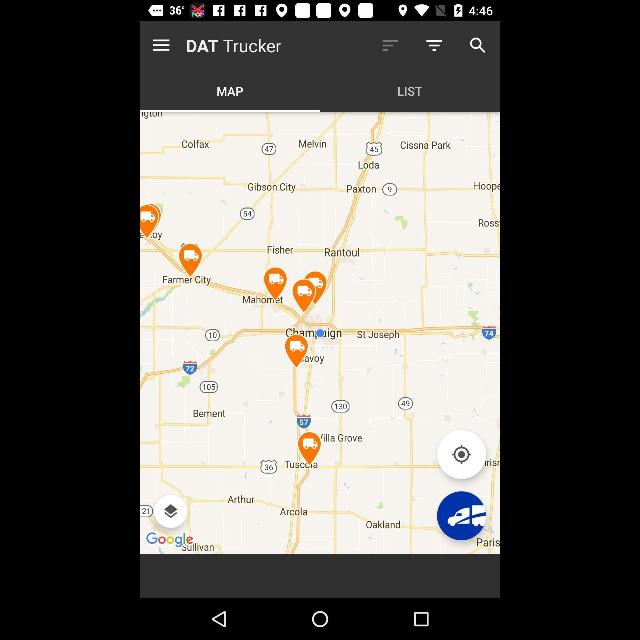icon: (154, 36, 170, 54), (468, 38, 486, 54), (382, 38, 398, 54), (312, 612, 328, 628), (426, 38, 442, 52), (214, 611, 226, 629), (414, 613, 428, 627)
map: (140, 113, 500, 555)
multitab: (140, 66, 500, 112)
panel: (140, 600, 500, 640)
text: (187, 40, 281, 52)
toolbar: (141, 21, 499, 67)
uppertaskbar: (140, 1, 500, 22)
